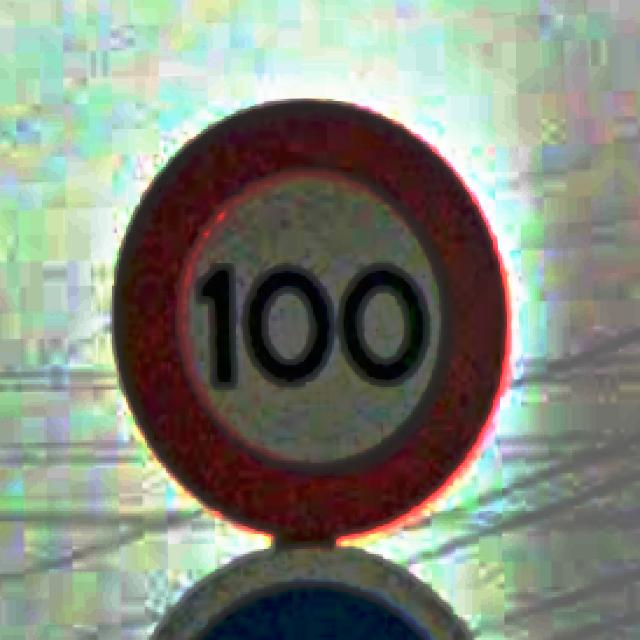max100: (110, 96, 512, 544)
